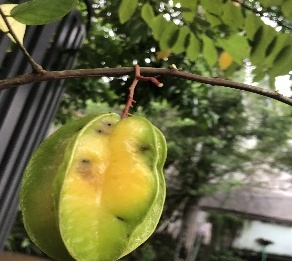Khe: (19, 111, 169, 261)
